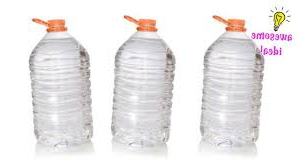plastic water bottle: (20, 14, 97, 148), (193, 10, 265, 151), (105, 13, 177, 148)
